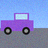vehicle: (1, 13, 33, 34)
